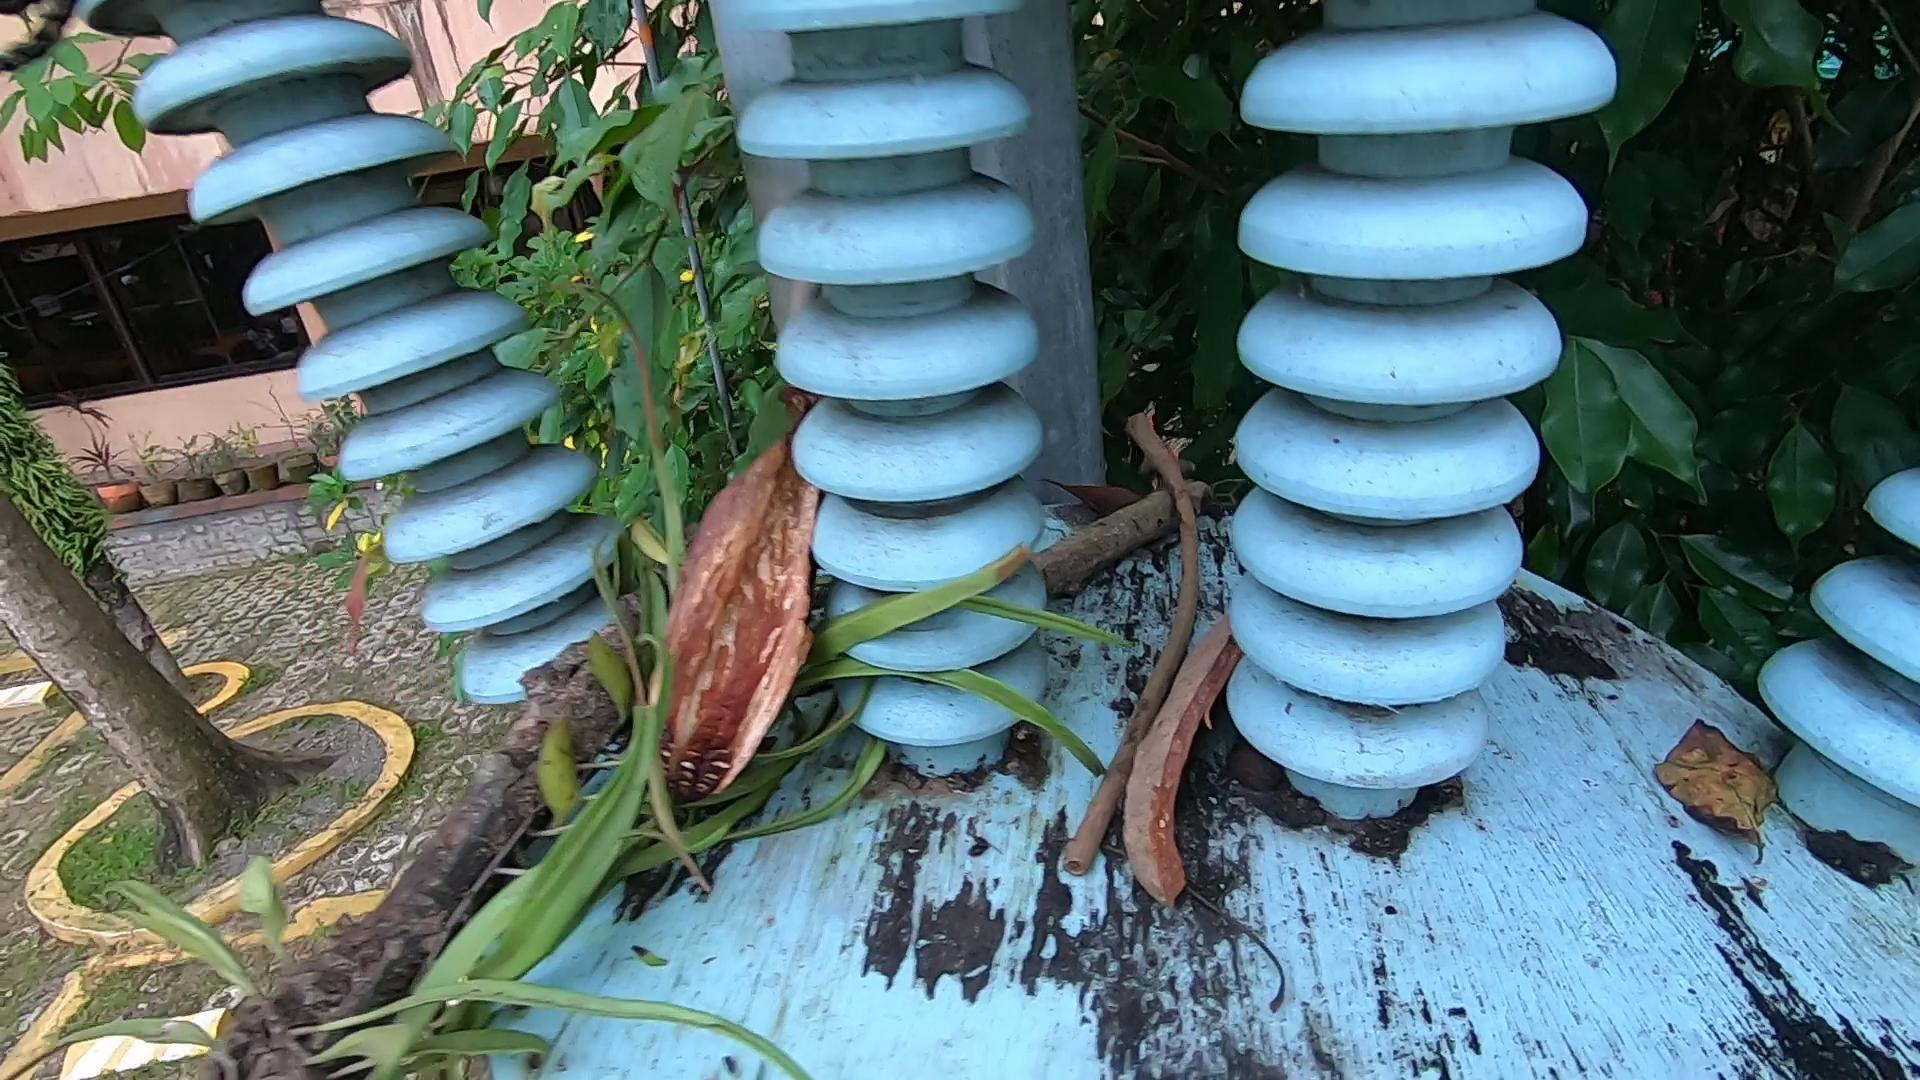branch with leaves: (12, 224, 1120, 1080)
leaf: (1648, 717, 1793, 862)
mahogany fruit: (622, 405, 889, 814), (1097, 556, 1284, 986)
tree branch: (1064, 375, 1197, 876), (1033, 467, 1207, 601)
